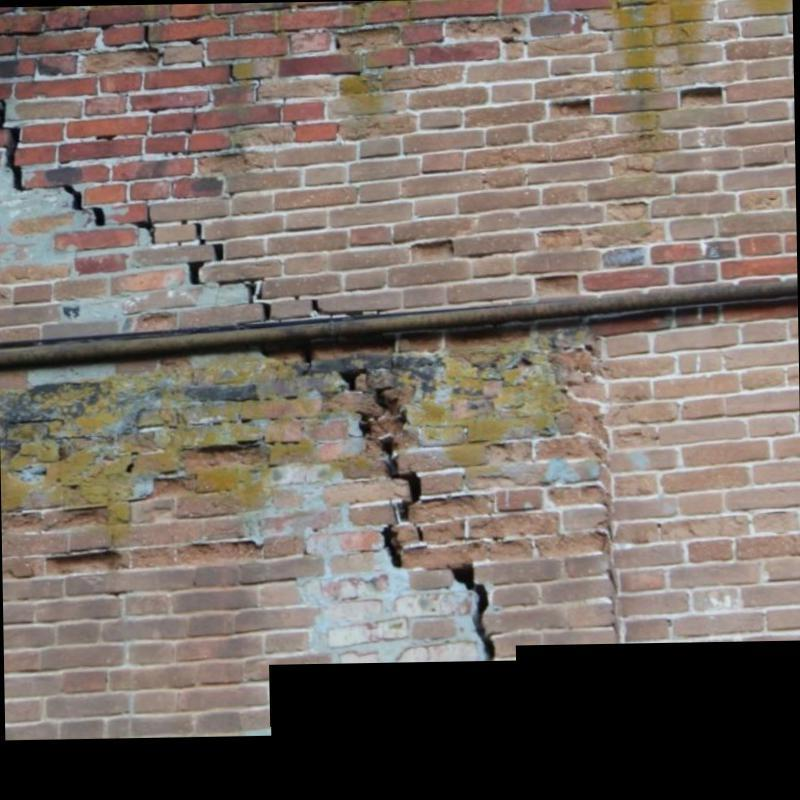pothole: (448, 563, 495, 661), (0, 99, 34, 191), (218, 275, 266, 305), (392, 473, 421, 520), (44, 184, 86, 212), (380, 522, 404, 567), (131, 205, 156, 243), (187, 258, 213, 286), (339, 368, 366, 391), (92, 206, 107, 226), (194, 222, 207, 245), (261, 301, 275, 320), (212, 243, 225, 261), (312, 298, 323, 313), (256, 283, 264, 298)
